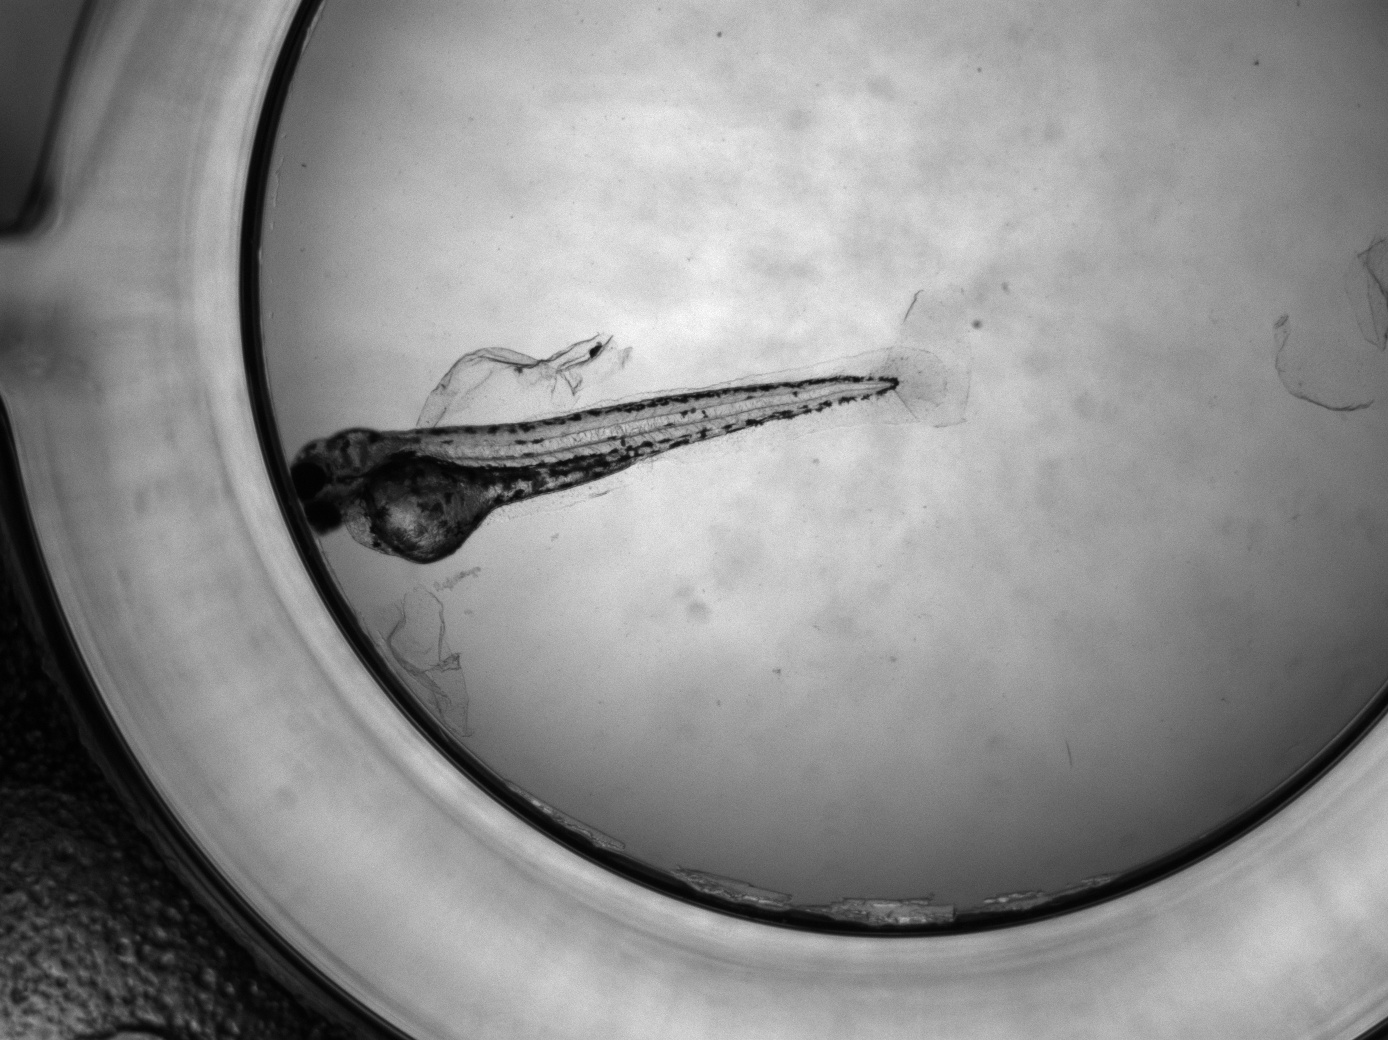debris: (414, 332, 638, 436), (1270, 236, 1388, 416), (373, 583, 478, 738)
embryo: (289, 374, 901, 566)
eye: (290, 462, 327, 501), (304, 501, 342, 535)
yolksac: (365, 456, 488, 565)
